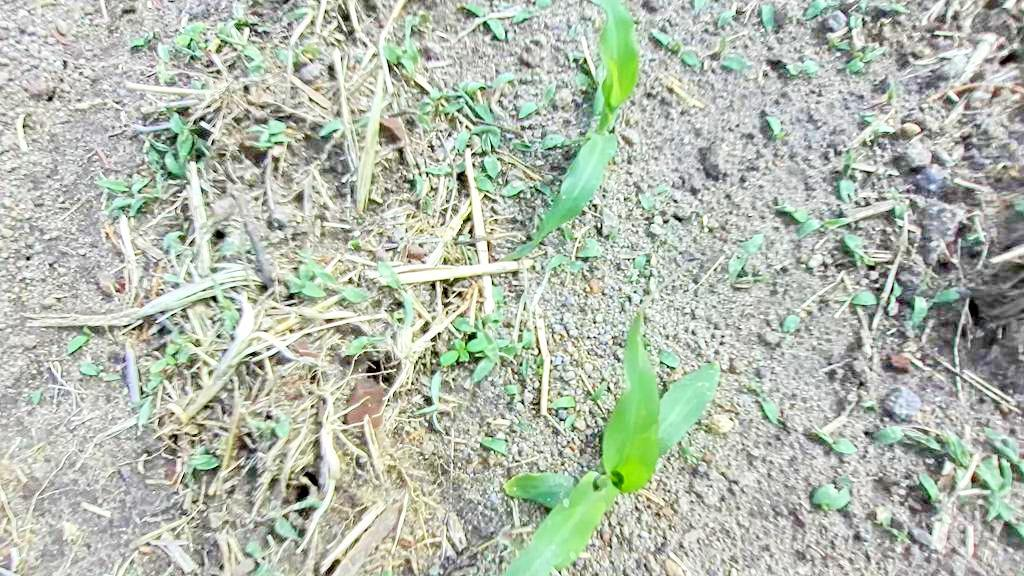BroWeed: (146, 102, 208, 174), (450, 303, 515, 368), (370, 255, 424, 327), (412, 369, 471, 434), (970, 456, 1021, 529), (494, 304, 553, 367), (139, 122, 191, 181), (717, 226, 767, 285), (982, 457, 1020, 524), (388, 85, 436, 138), (866, 499, 912, 553), (272, 266, 329, 309), (512, 79, 565, 125), (744, 377, 790, 429), (173, 443, 223, 488), (868, 423, 943, 452), (906, 466, 952, 513), (938, 455, 979, 507), (451, 80, 498, 125), (293, 247, 341, 290), (788, 209, 852, 241), (209, 273, 243, 333), (435, 331, 490, 368), (933, 426, 978, 471), (840, 224, 885, 269), (336, 324, 388, 362), (246, 109, 290, 152), (842, 38, 888, 79), (138, 50, 183, 91), (807, 425, 860, 459), (96, 187, 156, 217), (438, 77, 490, 110), (472, 132, 506, 181), (561, 50, 596, 97), (707, 5, 738, 57), (239, 526, 280, 565), (218, 215, 256, 256), (225, 26, 264, 65), (172, 15, 210, 53), (159, 228, 191, 273), (468, 115, 508, 151), (127, 394, 161, 436), (826, 472, 860, 514), (924, 281, 971, 311), (895, 513, 936, 547), (241, 412, 292, 439), (768, 306, 804, 344), (324, 279, 372, 307), (273, 493, 322, 519), (408, 173, 436, 218), (213, 228, 244, 266), (539, 127, 588, 151), (385, 41, 419, 75), (162, 326, 195, 361), (271, 515, 306, 548), (493, 523, 525, 559), (145, 144, 167, 196), (468, 351, 497, 390), (835, 154, 858, 203), (718, 47, 753, 79), (644, 26, 684, 54), (245, 130, 295, 152), (424, 157, 468, 182), (413, 85, 446, 118), (61, 324, 96, 355), (204, 37, 229, 80), (497, 174, 537, 200), (475, 430, 513, 457), (125, 23, 157, 55), (907, 294, 931, 336), (966, 207, 994, 243), (400, 15, 419, 67), (928, 513, 953, 552), (542, 250, 584, 273), (466, 166, 498, 196), (832, 286, 879, 306), (575, 237, 614, 261), (590, 364, 613, 404), (732, 269, 770, 293), (900, 349, 935, 375), (185, 132, 214, 163), (808, 478, 837, 507), (299, 38, 328, 67), (215, 18, 243, 48), (482, 66, 517, 90), (887, 184, 909, 222), (678, 46, 707, 74), (531, 177, 559, 205), (140, 366, 166, 396), (763, 111, 788, 142), (431, 96, 469, 116), (126, 170, 153, 198), (851, 38, 880, 64), (602, 206, 621, 245), (278, 5, 313, 26), (171, 340, 199, 366), (848, 394, 876, 420), (146, 352, 176, 376), (884, 279, 905, 313), (523, 31, 549, 58), (848, 13, 866, 51), (315, 116, 346, 138), (166, 399, 192, 425), (412, 9, 433, 41), (862, 15, 892, 37), (819, 485, 842, 512), (379, 41, 402, 68), (654, 347, 682, 369), (186, 40, 210, 65), (125, 194, 149, 219), (824, 6, 848, 31), (251, 559, 286, 576), (680, 435, 698, 468), (557, 406, 579, 433), (137, 348, 163, 370), (451, 126, 473, 152), (548, 393, 576, 413), (508, 5, 537, 24), (785, 60, 819, 76), (77, 359, 104, 379), (240, 55, 268, 74), (968, 88, 992, 110), (635, 188, 656, 213), (870, 0, 909, 13), (271, 42, 293, 65), (288, 44, 311, 66), (481, 316, 501, 341), (93, 178, 130, 191), (171, 41, 196, 60), (154, 41, 175, 63), (781, 206, 809, 222), (678, 441, 704, 458), (761, 3, 774, 37), (154, 124, 176, 144), (139, 131, 154, 160), (825, 24, 850, 41), (560, 221, 578, 244), (513, 139, 540, 154), (854, 248, 869, 274), (253, 22, 285, 34), (311, 274, 331, 293), (123, 170, 144, 188), (646, 275, 661, 300), (28, 384, 44, 407), (150, 272, 183, 283), (642, 249, 661, 268), (350, 114, 370, 132), (103, 207, 124, 224), (465, 134, 482, 155), (480, 311, 507, 324), (492, 285, 504, 314), (180, 420, 200, 437), (272, 410, 292, 427), (504, 166, 524, 183), (885, 81, 899, 105), (347, 239, 375, 251), (930, 509, 953, 523), (962, 229, 986, 242), (829, 36, 851, 50), (826, 17, 845, 33), (860, 109, 880, 124), (633, 253, 647, 273), (865, 442, 882, 458), (298, 263, 313, 281), (97, 371, 121, 382), (392, 308, 405, 328), (517, 188, 537, 201), (401, 166, 415, 184), (444, 146, 458, 164), (520, 354, 530, 379), (503, 383, 522, 396), (875, 122, 897, 133), (237, 0, 252, 16), (493, 429, 508, 445), (188, 445, 207, 457), (903, 319, 915, 338), (886, 301, 901, 316), (351, 50, 366, 65), (627, 266, 641, 282), (505, 135, 521, 149), (652, 183, 669, 196), (442, 174, 455, 191), (239, 25, 250, 45), (534, 353, 544, 375), (900, 340, 918, 352), (515, 418, 530, 432), (401, 66, 417, 79), (179, 13, 189, 33), (1008, 165, 1024, 177), (1011, 198, 1023, 213), (598, 390, 610, 405), (701, 213, 710, 233), (189, 77, 203, 89), (531, 0, 552, 8), (495, 339, 511, 349), (510, 392, 523, 404), (694, 0, 705, 14), (504, 29, 514, 41), (910, 351, 923, 360), (567, 23, 575, 36), (197, 41, 211, 48), (182, 219, 188, 235)
Maize: (454, 262, 765, 576)
